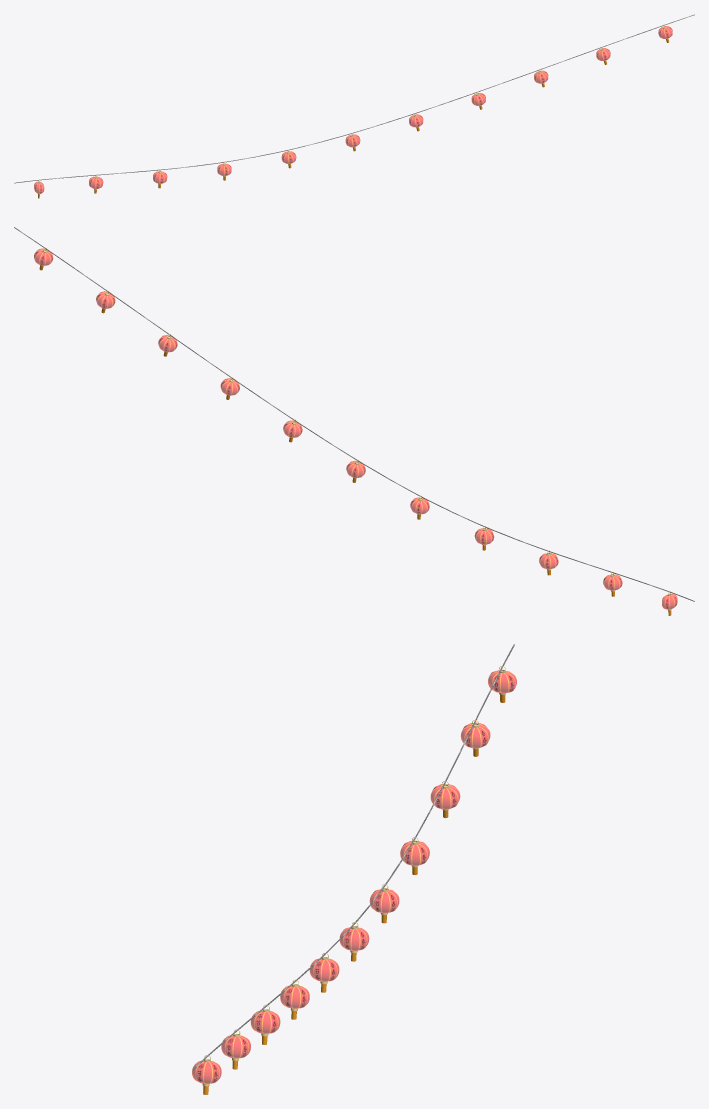
The model's file is SM_lamp_spline_Splines_25.fbx.
3 views of the same model, one above another, from view 1: azimuth 30°, elevation 25°; view 2: azimuth 150°, elevation 25°; view 3: azimuth 270°, elevation 25° (orthographic). The views are drawn at different scales.
Parts seen in each view (by area): view 1: SM_lamp_spline_Splines_25; view 2: SM_lamp_spline_Splines_25; view 3: SM_lamp_spline_Splines_25.
Boxes of the visible parts, box(x1,y1,x2,y2) form: SM_lamp_spline_Splines_25: box(14, 14, 694, 198); SM_lamp_spline_Splines_25: box(14, 227, 694, 615); SM_lamp_spline_Splines_25: box(192, 644, 516, 1094).
Bounding box in the file's own units: 2590 × 607 × 433.
